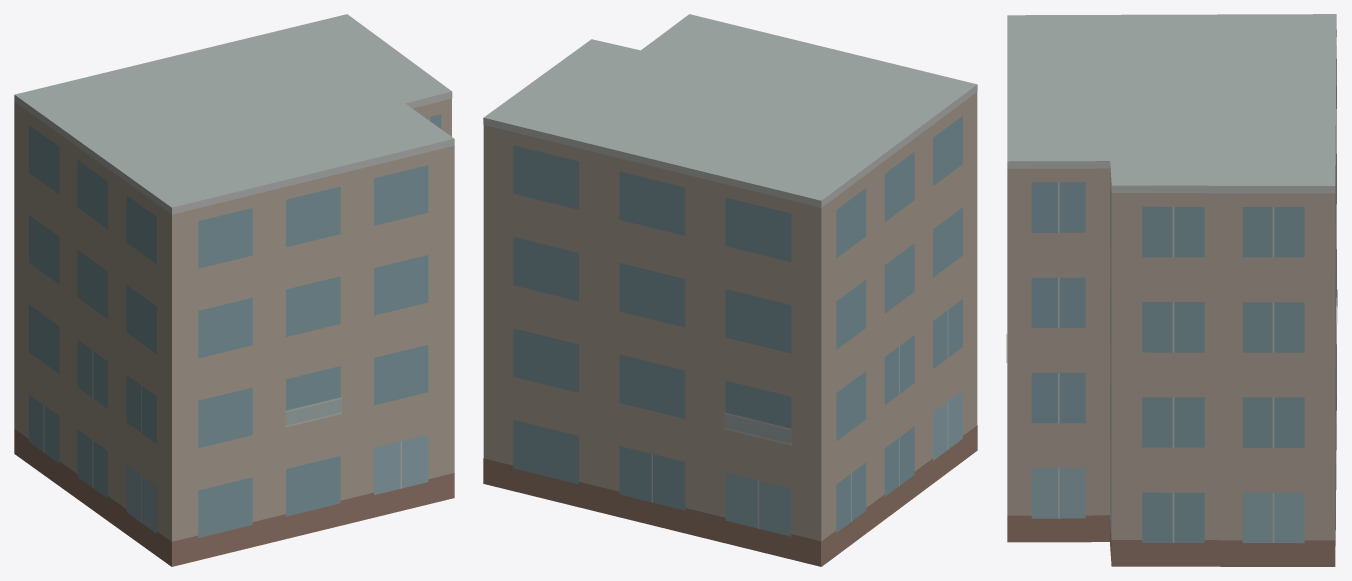
File: survey-upis-32773710.glb
The picture shows the model from 3 angles, left to right: view 1: azimuth 30°, elevation 25°; view 2: azimuth 150°, elevation 25°; view 3: azimuth 270°, elevation 25°; orthographic projection. The views are drawn at different scales.
Parts seen in each view (by area): view 1: survey-upis-32773710.tmp; view 2: survey-upis-32773710.tmp; view 3: survey-upis-32773710.tmp.
Boxes of the visible parts, <box> form: survey-upis-32773710.tmp: <box>14,14,454,566</box>; survey-upis-32773710.tmp: <box>483,14,977,566</box>; survey-upis-32773710.tmp: <box>1006,14,1337,566</box>.
Size of the model in its own units: 12.21 by 12.6 by 9.95.
